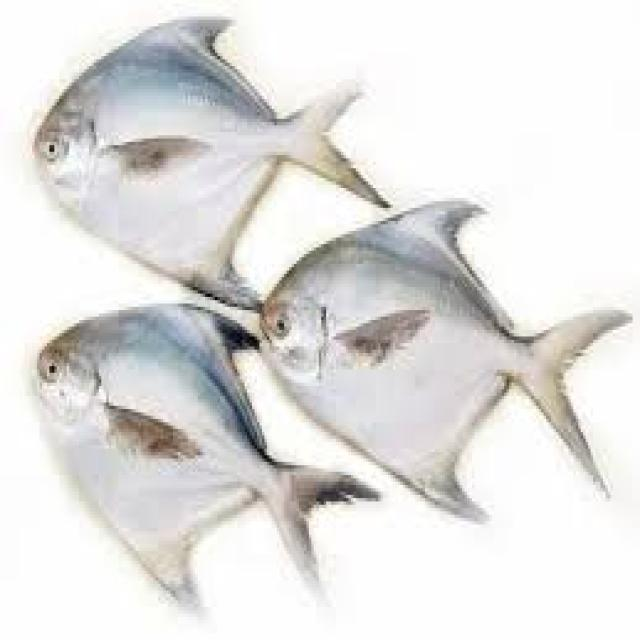pomfred: (255, 200, 637, 523)
